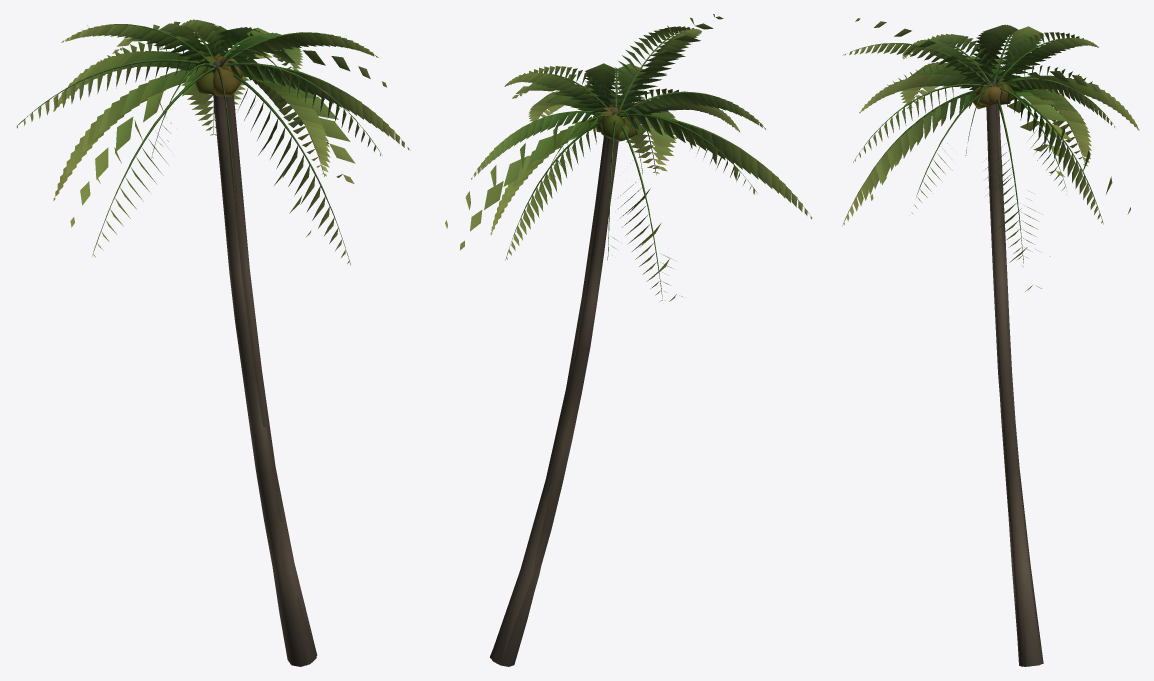
The model's file is coconut-palm.glb.
3 views of the same model, side by side, from view 1: azimuth 30°, elevation 25°; view 2: azimuth 150°, elevation 25°; view 3: azimuth 270°, elevation 25° (orthographic). The views are drawn at different scales.
Visible parts, largest first — view 1: coconut-palm, coconut-palm-lo; view 2: coconut-palm, coconut-palm-lo; view 3: coconut-palm, coconut-palm-lo.
Boxes of the visible parts, left/top/right/bottom form: coconut-palm: left=16, top=19, right=410, bottom=666; coconut-palm-lo: left=70, top=21, right=386, bottom=665; coconut-palm: left=471, top=26, right=812, bottom=666; coconut-palm-lo: left=445, top=14, right=755, bottom=665; coconut-palm: left=842, top=24, right=1139, bottom=666; coconut-palm-lo: left=855, top=18, right=1130, bottom=666.
Bounding box in the file's own units: 6.61 × 13.14 × 5.96.
